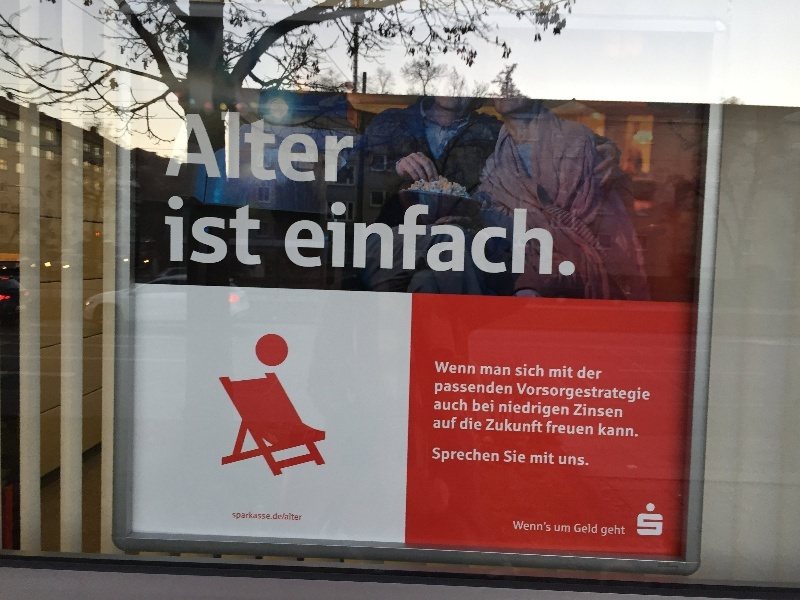text: (561, 200, 577, 276), (305, 200, 320, 276), (321, 200, 336, 276), (337, 200, 352, 276), (353, 200, 368, 276), (369, 200, 384, 276), (385, 200, 400, 276), (401, 200, 416, 276), (417, 200, 432, 276), (433, 200, 448, 276), (449, 200, 464, 276), (465, 200, 480, 276), (481, 200, 496, 276), (497, 200, 512, 276), (513, 200, 528, 276), (529, 200, 544, 276), (545, 200, 560, 276), (161, 194, 176, 268), (177, 194, 192, 268), (193, 194, 208, 268), (209, 194, 224, 268), (225, 194, 240, 268), (241, 194, 256, 268), (193, 111, 208, 184), (209, 111, 224, 184), (225, 111, 240, 184), (241, 111, 256, 184), (257, 111, 272, 184), (273, 111, 288, 184), (289, 111, 304, 184), (305, 111, 320, 184), (321, 111, 336, 184), (337, 111, 352, 184), (353, 111, 368, 184), (292, 200, 304, 276), (257, 194, 264, 268), (641, 503, 656, 537), (186, 111, 192, 184), (513, 401, 528, 422), (529, 401, 544, 422), (545, 401, 560, 422), (529, 383, 544, 404), (545, 383, 560, 404), (561, 383, 576, 404), (577, 383, 592, 404), (593, 383, 608, 404), (609, 383, 624, 404), (625, 383, 640, 404), (500, 401, 512, 422), (516, 383, 528, 404), (433, 447, 448, 463), (449, 447, 464, 463), (465, 447, 480, 463), (481, 447, 496, 463), (657, 503, 664, 537), (561, 421, 576, 436), (577, 421, 592, 436), (449, 360, 464, 375), (497, 381, 513, 395), (369, 111, 372, 184), (609, 423, 624, 437), (497, 419, 512, 433), (513, 419, 528, 433), (465, 417, 480, 431), (577, 404, 592, 418), (593, 404, 608, 418), (609, 404, 624, 418), (641, 383, 651, 404), (449, 381, 464, 395), (465, 381, 480, 395), (481, 381, 496, 395), (529, 364, 545, 377), (625, 423, 639, 437), (529, 419, 543, 433), (609, 524, 624, 537), (531, 449, 544, 464), (547, 421, 560, 436), (435, 360, 448, 375), (434, 416, 448, 429), (481, 399, 494, 413), (435, 381, 448, 395), (579, 365, 592, 379), (561, 364, 574, 378), (449, 399, 464, 411), (513, 450, 526, 463), (561, 401, 569, 422), (577, 523, 592, 534), (513, 521, 528, 532), (529, 521, 544, 532), (465, 360, 476, 375), (257, 510, 273, 520), (435, 399, 448, 411), (516, 364, 528, 377), (549, 364, 560, 378), (241, 510, 256, 520), (561, 456, 576, 466), (545, 449, 555, 464), (481, 366, 496, 376), (486, 419, 496, 433), (593, 365, 603, 379), (497, 366, 511, 376), (273, 511, 288, 520), (599, 423, 608, 437), (577, 456, 589, 466), (449, 416, 458, 429), (289, 512, 303, 520), (473, 399, 480, 413), (601, 524, 608, 537), (505, 450, 512, 463), (233, 510, 240, 520), (561, 525, 571, 532), (638, 503, 640, 537), (545, 521, 551, 532), (593, 523, 598, 534), (497, 447, 500, 463), (554, 525, 560, 532), (461, 417, 464, 431), (465, 399, 468, 411), (284, 513, 288, 520), (574, 404, 576, 418), (285, 512, 288, 520), (574, 523, 576, 534), (593, 421, 594, 436), (481, 417, 482, 431), (625, 524, 626, 537), (559, 456, 560, 466)
